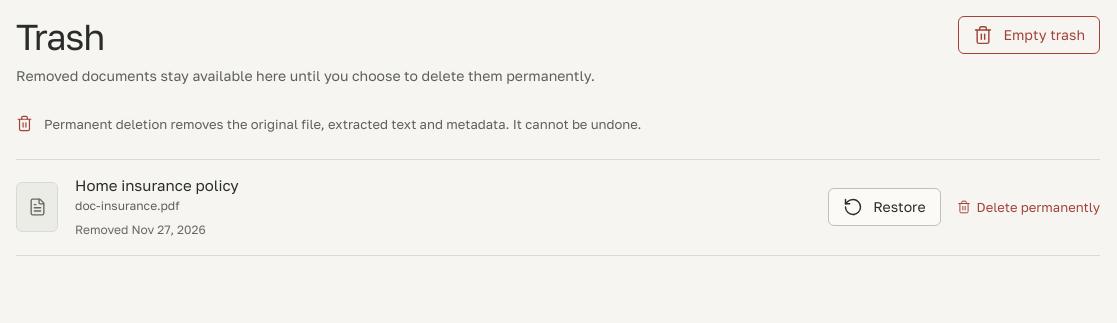
Test: TrashPage › empties the whole trash after a destructive confirmation
Click the button "Empty trash" at point(1029, 35), box [958, 16, 1100, 54]
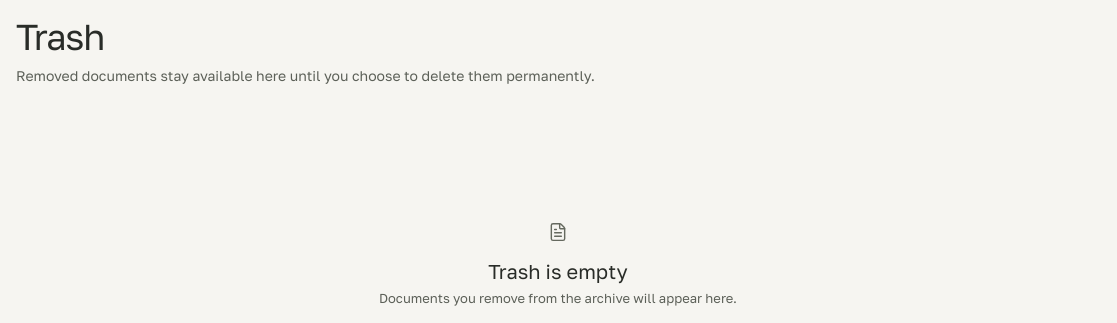
Expected: the text "Trash is empty" is shown, [488, 259, 628, 283]
